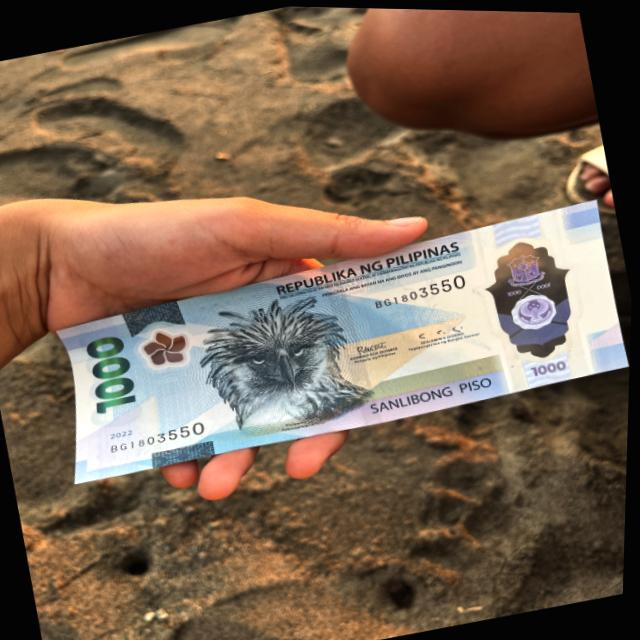clear_window: (449, 203, 607, 398)
eagle: (172, 268, 400, 450)
sampaguita: (128, 317, 202, 375)
